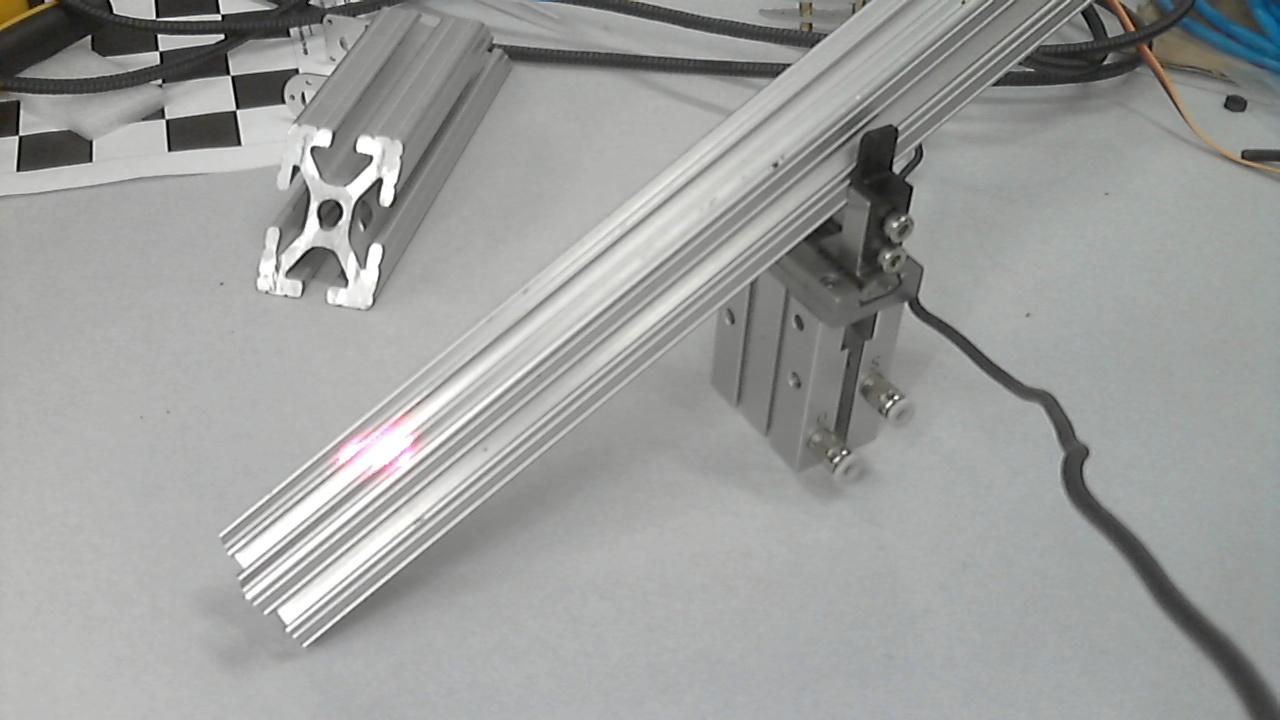Object - extruded aluminum profile - Material metal - Pdfname IJiB5jbMhrV7: (306, 398, 434, 492)
